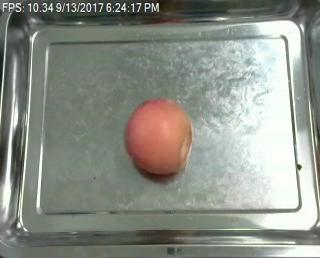apple: (124, 98, 193, 175)
